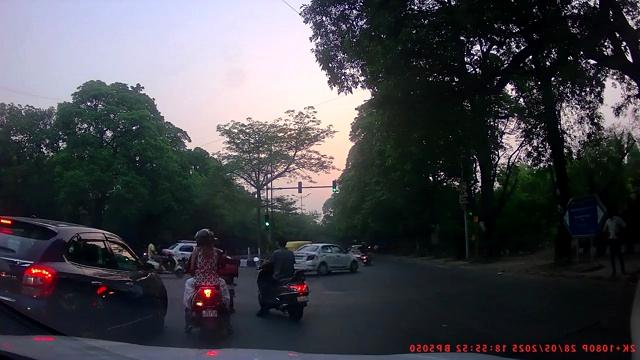motorcycle_without_helmet: (251, 235, 308, 327)
passenger_with_helmet: (180, 228, 239, 346)
